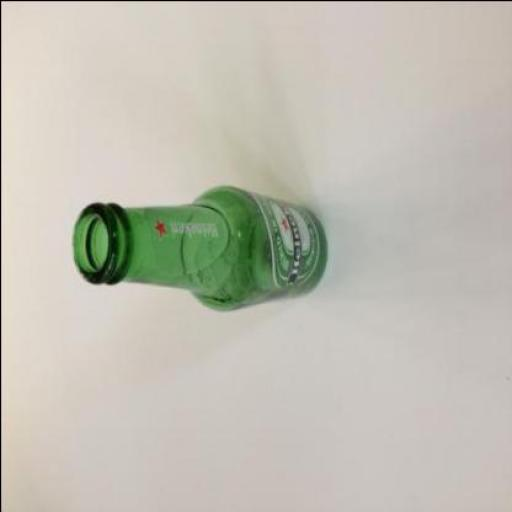glass: (70, 184, 326, 307)
